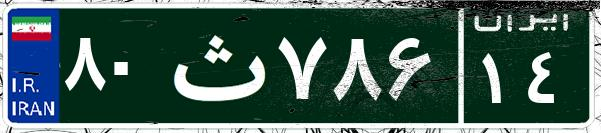0: (110, 28, 158, 105)
1: (475, 38, 525, 113)
4: (525, 38, 570, 115)
6: (385, 28, 445, 110)
7: (273, 28, 330, 110)
8: (330, 28, 385, 110), (57, 26, 110, 107)
ث: (158, 15, 273, 115)
